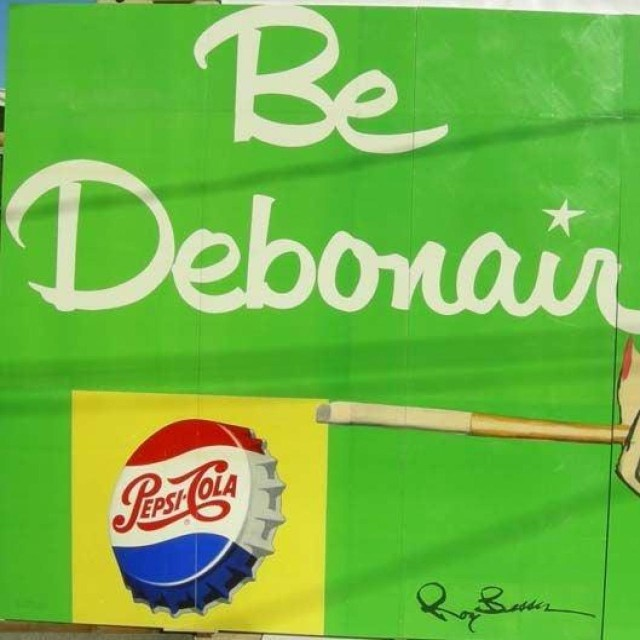pepsi: (105, 414, 252, 586)
